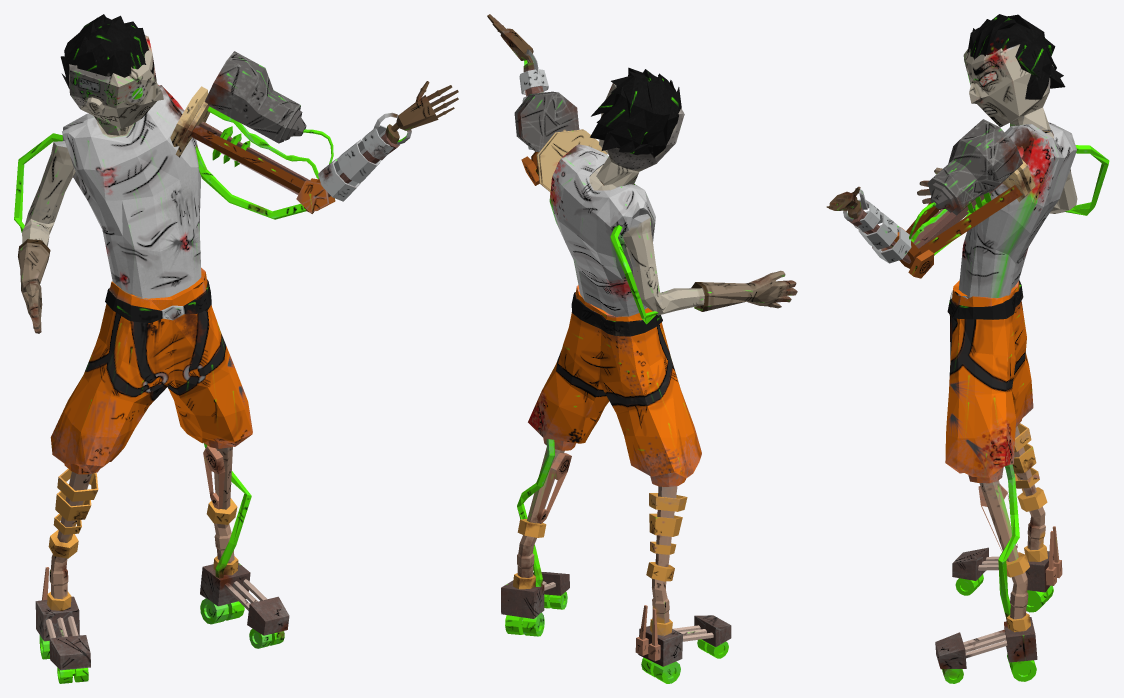
File: CyborgFINALAnimation_000036.obj
The picture shows the model from 3 angles, left to right: view 1: azimuth 30°, elevation 25°; view 2: azimuth 150°, elevation 25°; view 3: azimuth 270°, elevation 25°; orthographic projection. The views are drawn at different scales.
Parts seen in each view (by area): view 1: CyborgMesh_Cube.002; view 2: CyborgMesh_Cube.002; view 3: CyborgMesh_Cube.002.
Boxes of the visible parts, x1,y1,x2,y2 form: CyborgMesh_Cube.002: (14,14,458,683); CyborgMesh_Cube.002: (487,14,797,683); CyborgMesh_Cube.002: (826,14,1109,683).
Size of the model in its own units: 5.92 by 9.53 by 4.03.
